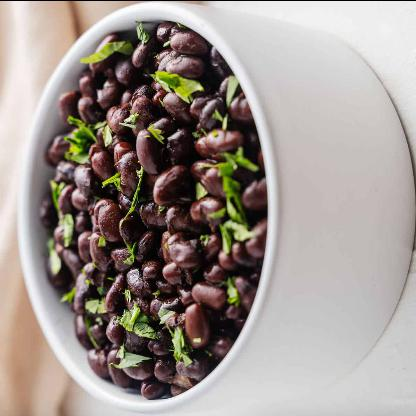black beans: (41, 23, 266, 399)
